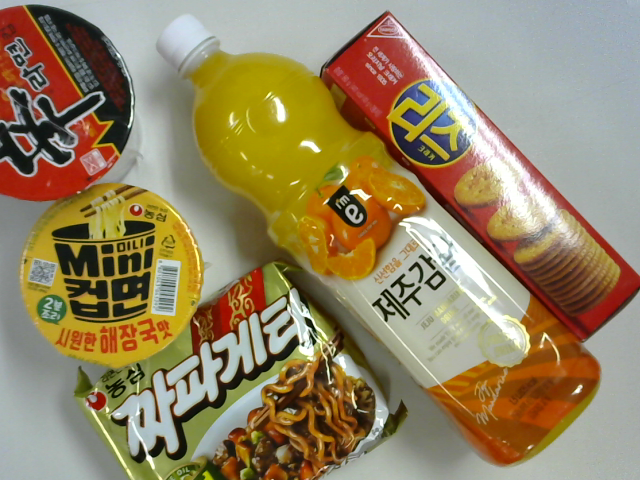Hejangmini: (19, 186, 207, 368)
Jeju_Tangerine_1.5L: (155, 10, 601, 464)
Olive_Chapaghetti: (69, 262, 409, 480)
Ritz_Cracker: (319, 12, 640, 340)
Sinramen_small: (5, 2, 143, 196)
